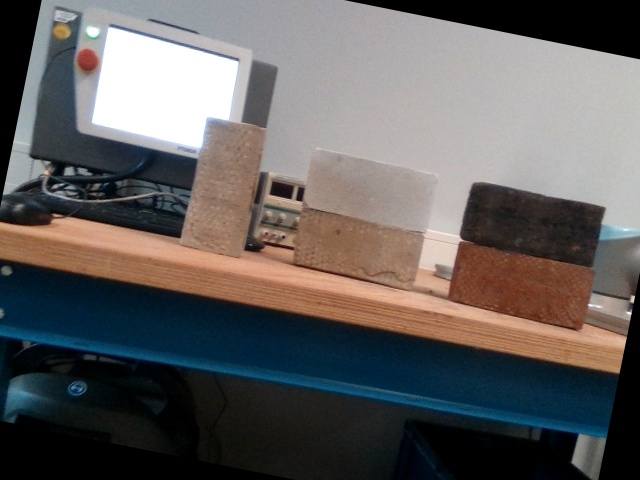brick: (452, 244, 593, 324), (463, 183, 602, 262), (185, 121, 262, 255), (304, 154, 434, 228), (295, 212, 421, 282)
